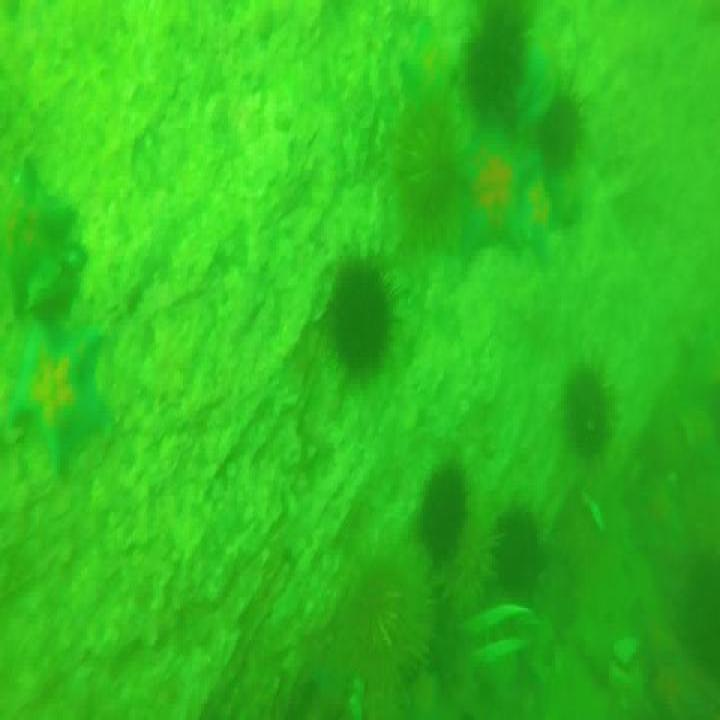echinus: (0, 310, 107, 479), (448, 130, 534, 266), (324, 258, 402, 384), (398, 105, 457, 233), (338, 560, 403, 667), (471, 4, 526, 126), (419, 464, 470, 562), (539, 87, 592, 174), (493, 506, 544, 586), (567, 362, 607, 460)
